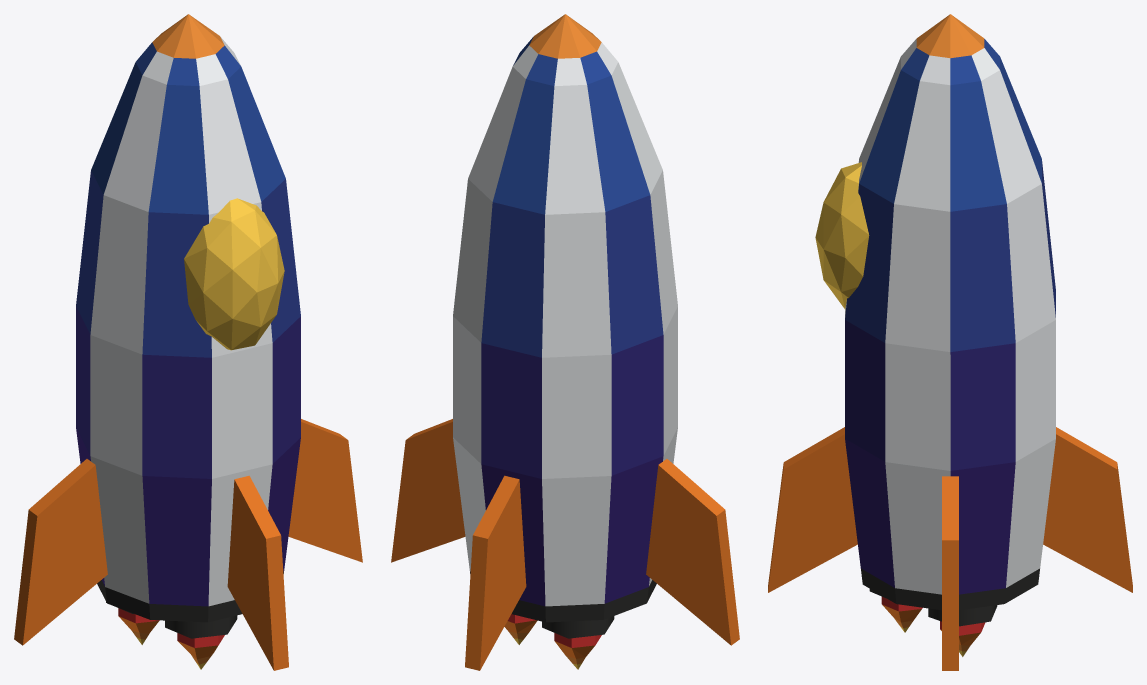
Rendered from rocket.gltf.
3 renders of one model, left to right at view 1: azimuth 30°, elevation 25°; view 2: azimuth 150°, elevation 25°; view 3: azimuth 270°, elevation 25°, orthographic.
Visible parts, largest first — view 1: rocket; view 2: rocket; view 3: rocket.
Part boxes in pixels (x1,y1,x2,y2): rocket: (14,14,362,670); rocket: (391,14,739,670); rocket: (768,14,1132,670).
Size of the model in its own units: 0.6758 by 1.21 by 0.6404.
1 material, 1 textured.
